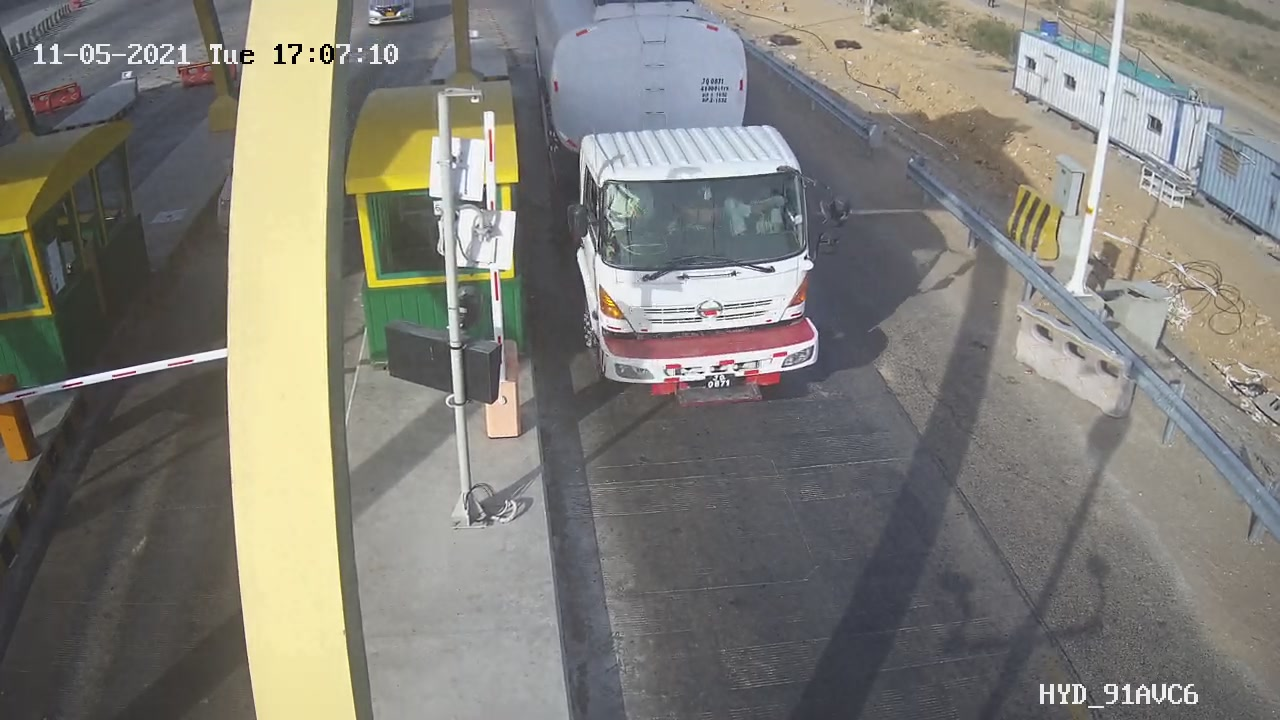F6: (527, 1, 869, 422)
